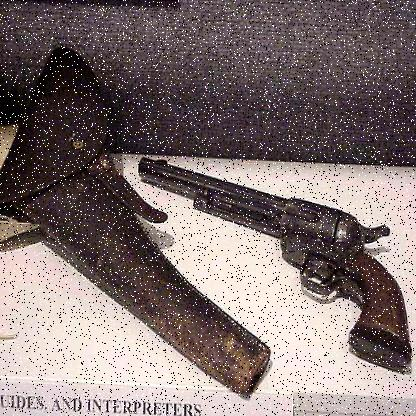pistol: (139, 155, 412, 372)
